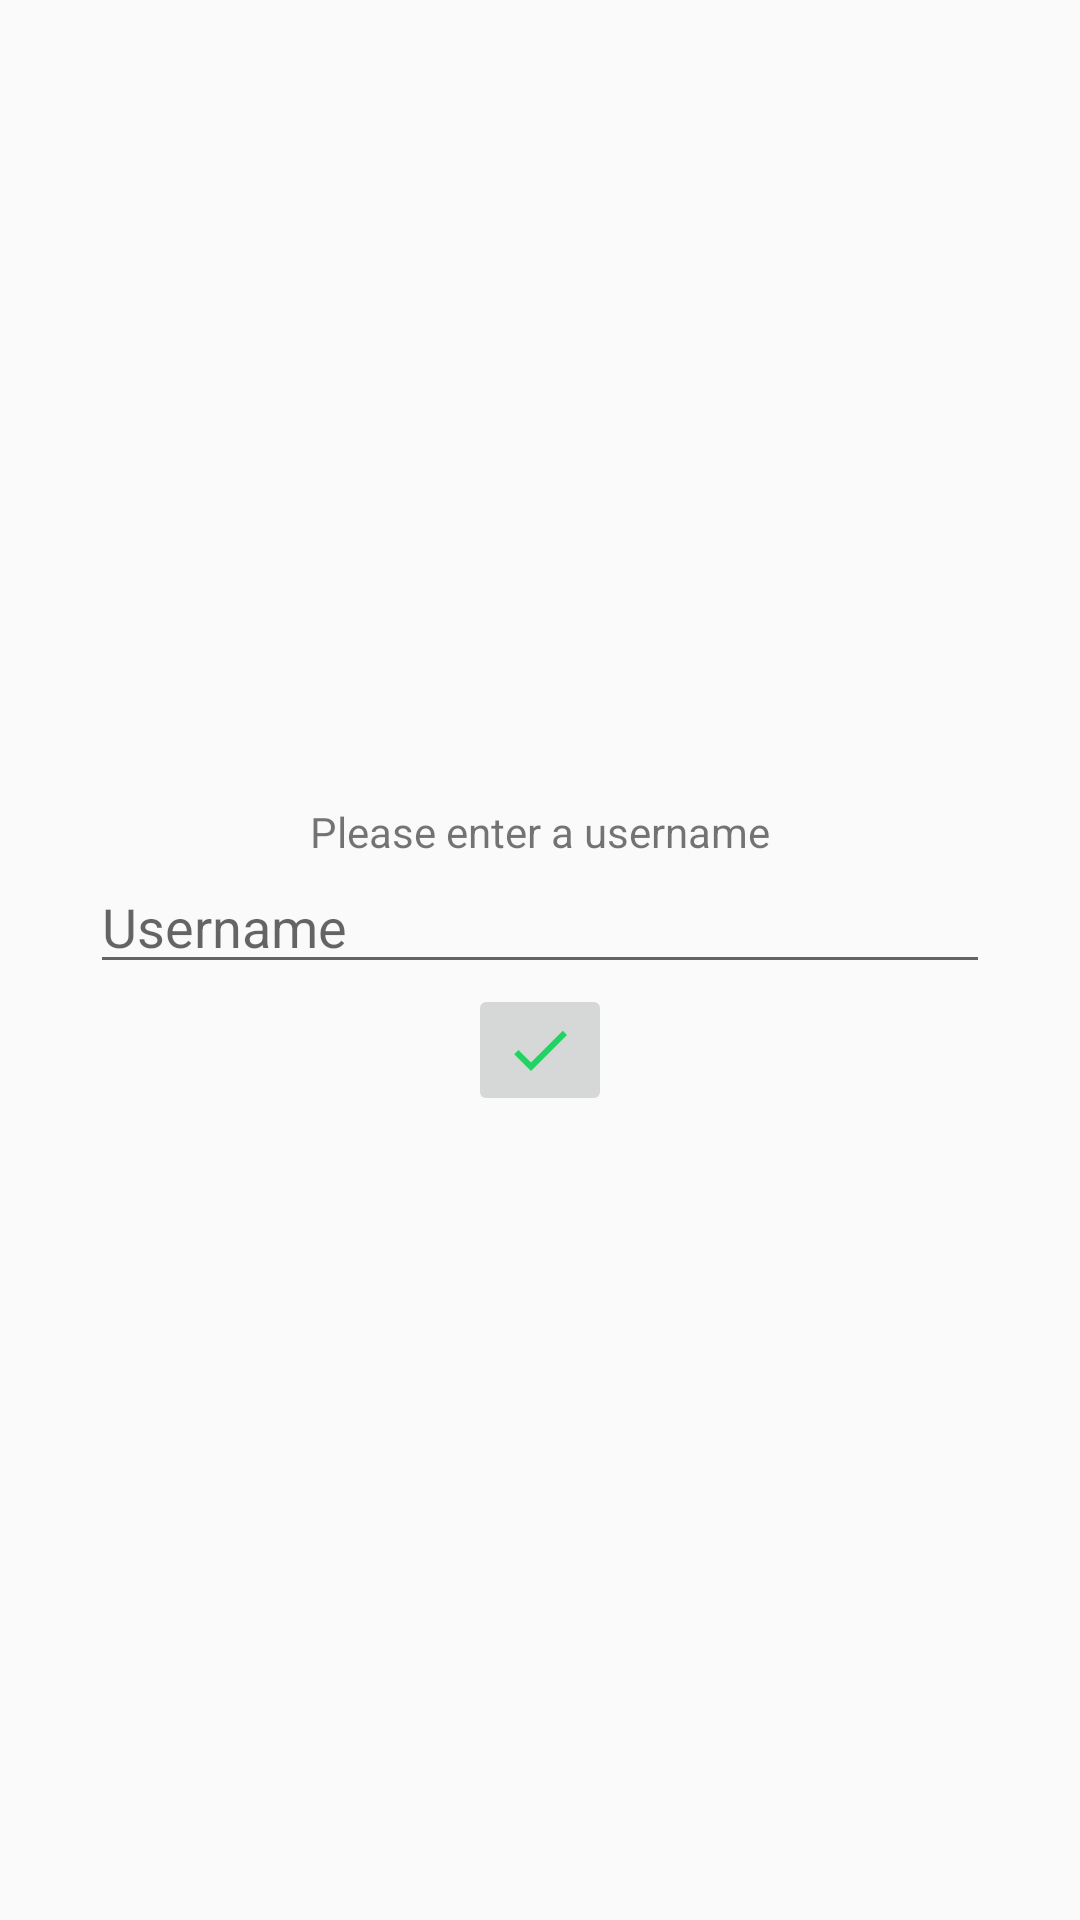

Icon bounding boxes for this 1080px x 1920px phone screenshot, format (x1, y1, x2, y2):
check: (480, 1002, 600, 1098)
